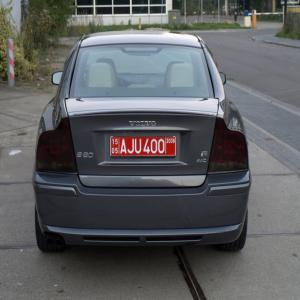Vehicle-registration-plate: (110, 137, 177, 157)
